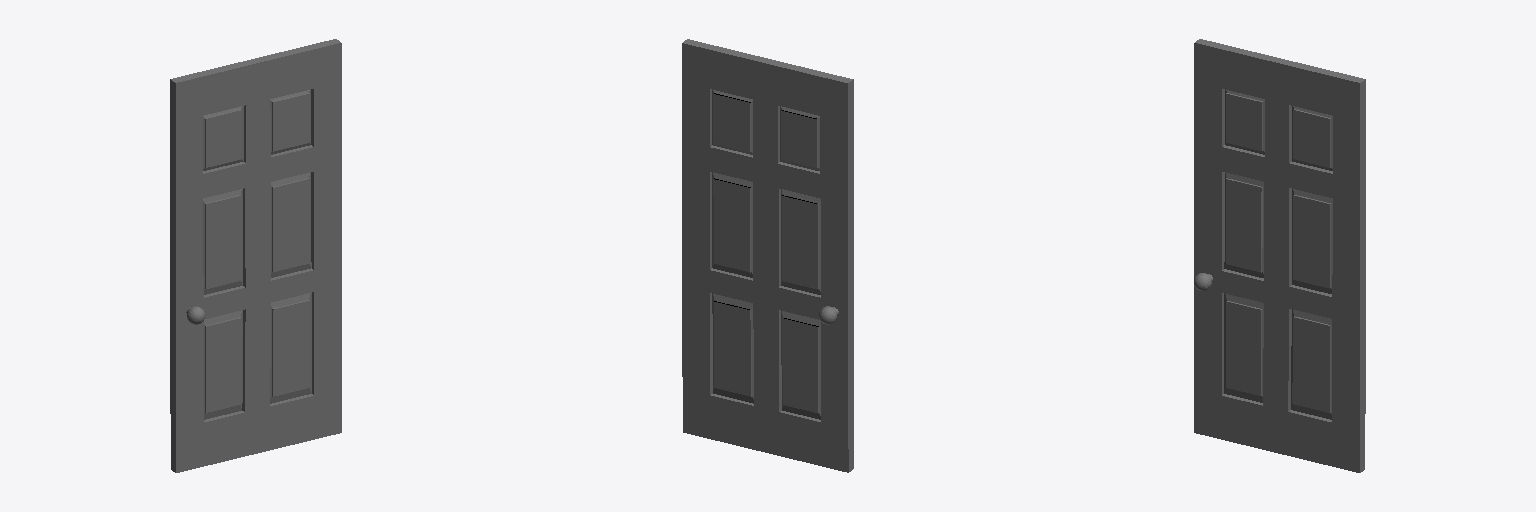
File: puerta.obj
3 views of the same model, side by side, from view 1: azimuth 30°, elevation 25°; view 2: azimuth 150°, elevation 25°; view 3: azimuth 330°, elevation 25° (orthographic).
Bounding box in the file's own units: 2.81 × 6.3 × 0.7728.